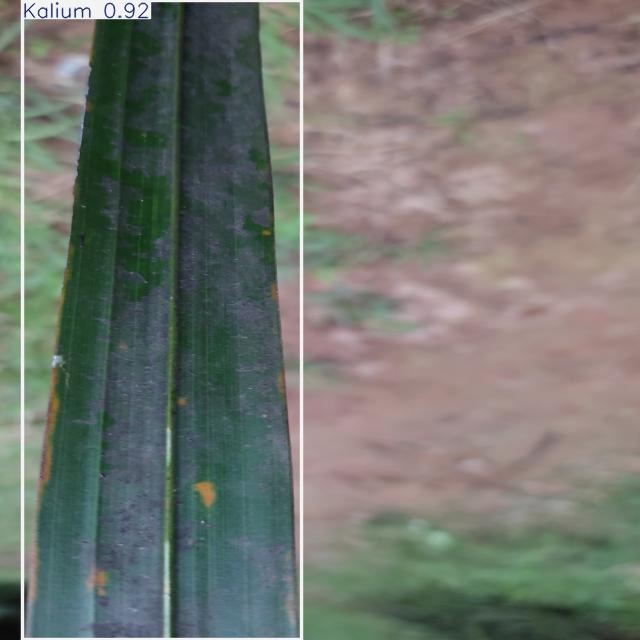Kalium: (23, 0, 301, 640)
